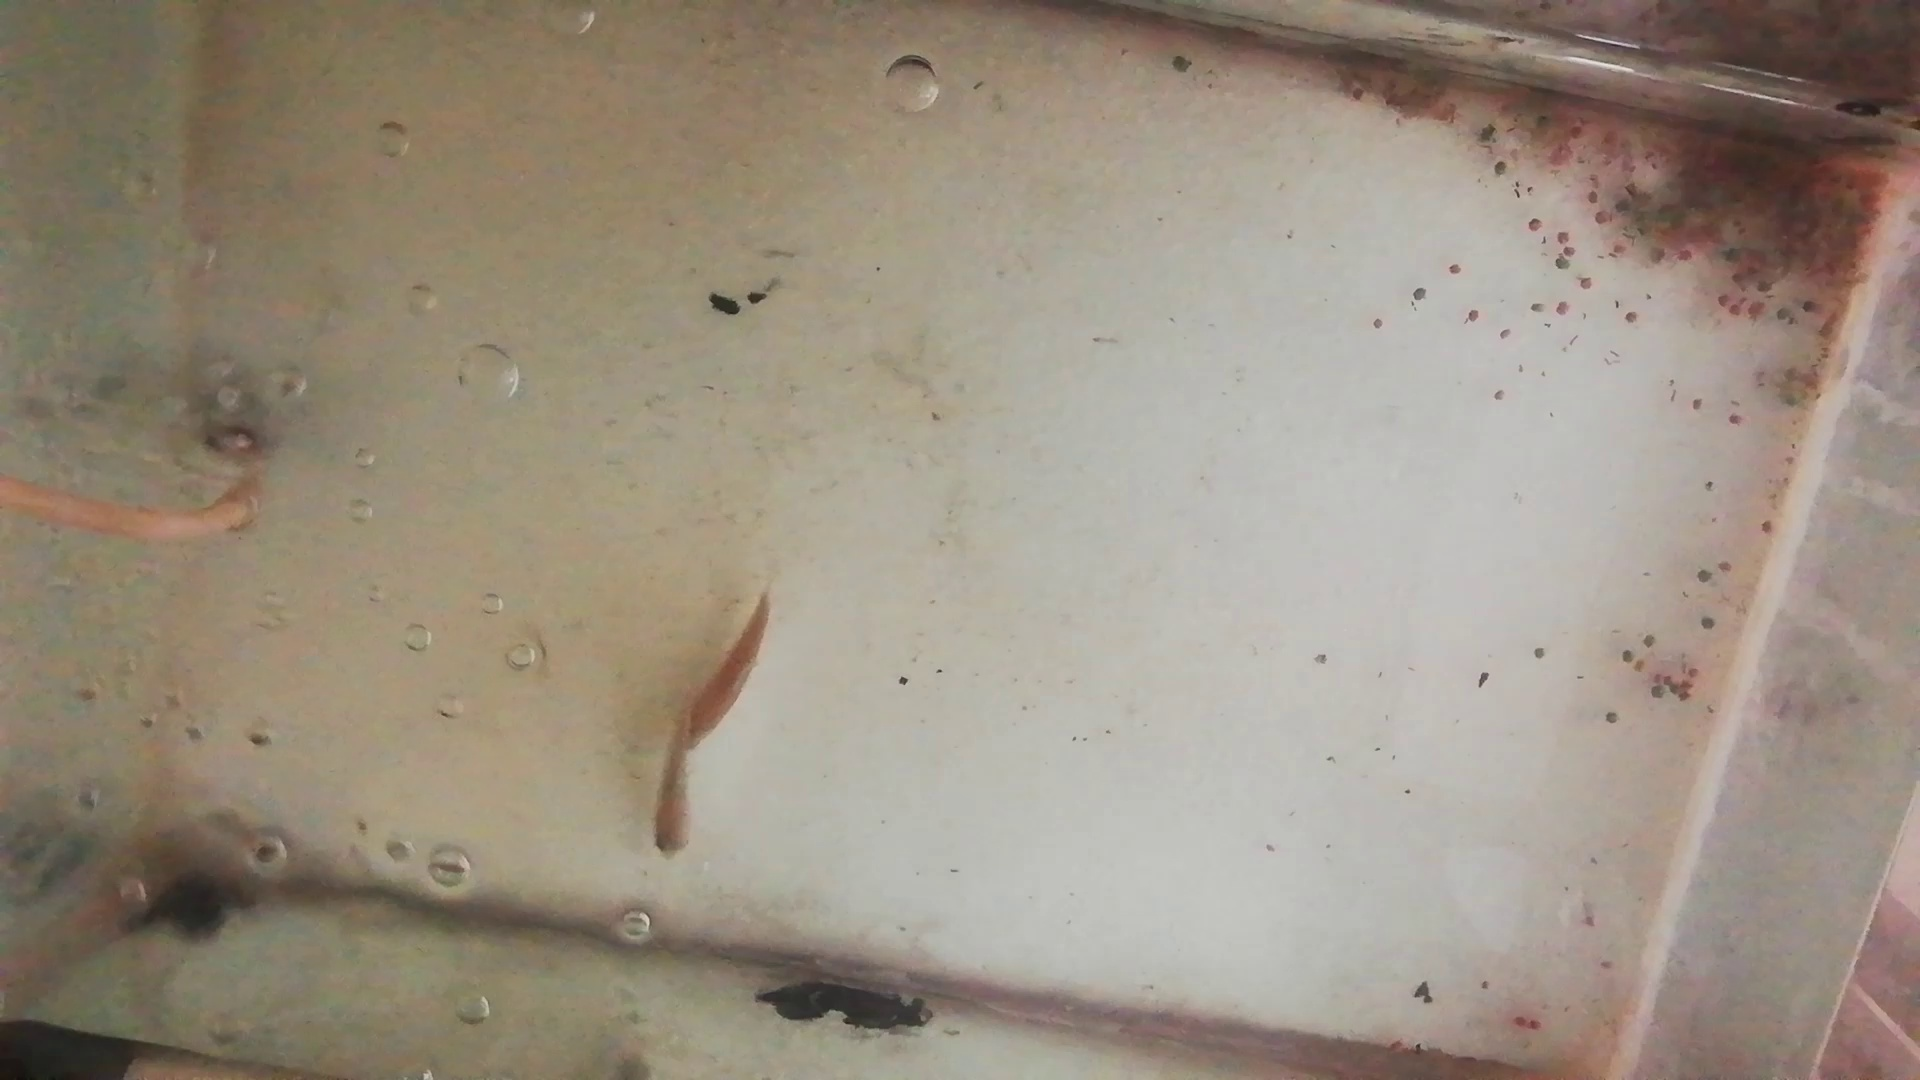fish: (674, 592, 769, 745), (655, 694, 695, 862)
